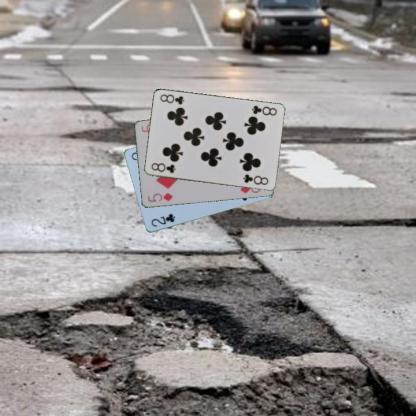2c: (149, 212, 176, 228)
5d: (145, 190, 174, 203)
8c: (148, 160, 177, 175), (248, 103, 278, 117)
